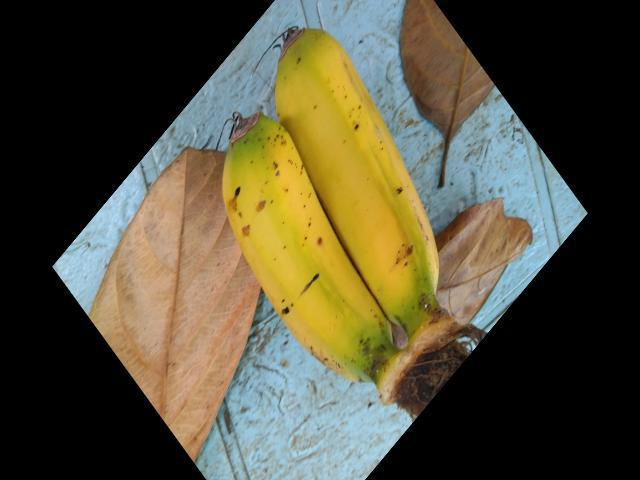ripe: (282, 22, 449, 336), (216, 120, 385, 408)
